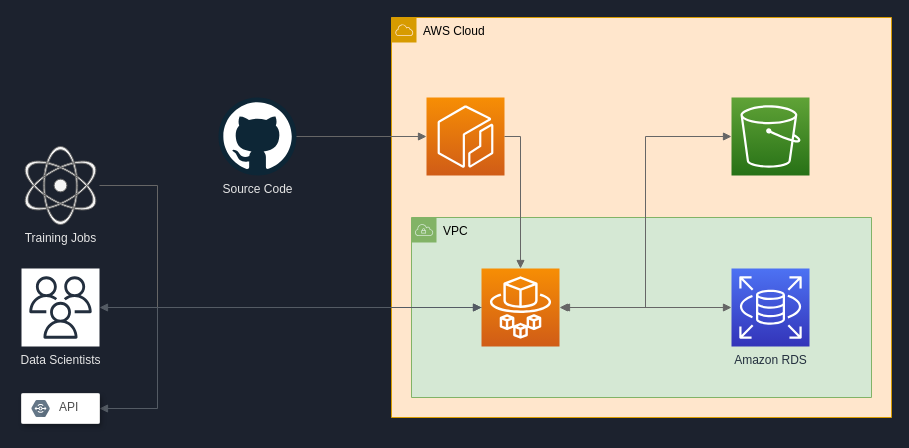
This 909x448 diagram has some shape labels left out. Here are the shapes that lost their labels. From the top down, the centre of each, then its label:
At point (465, 136): "Amazon ECR".
At point (770, 136): "Amazon S3".
At point (520, 307): "App Runner (MLflow server)".
